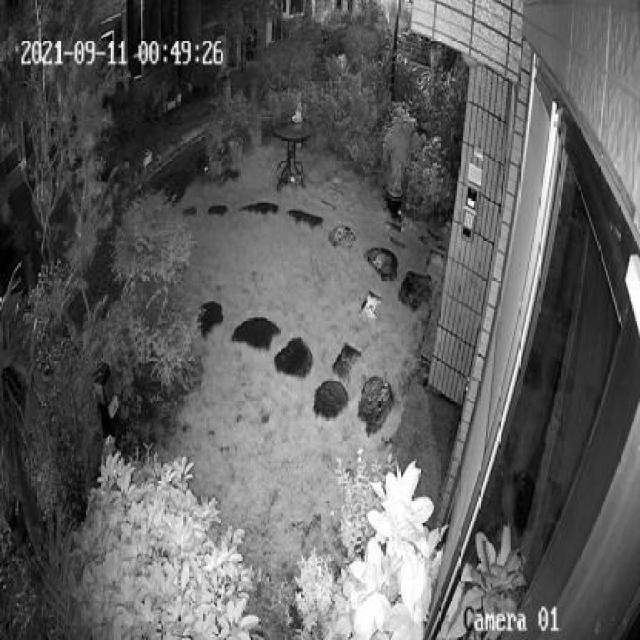animals: (196, 159, 210, 187)
